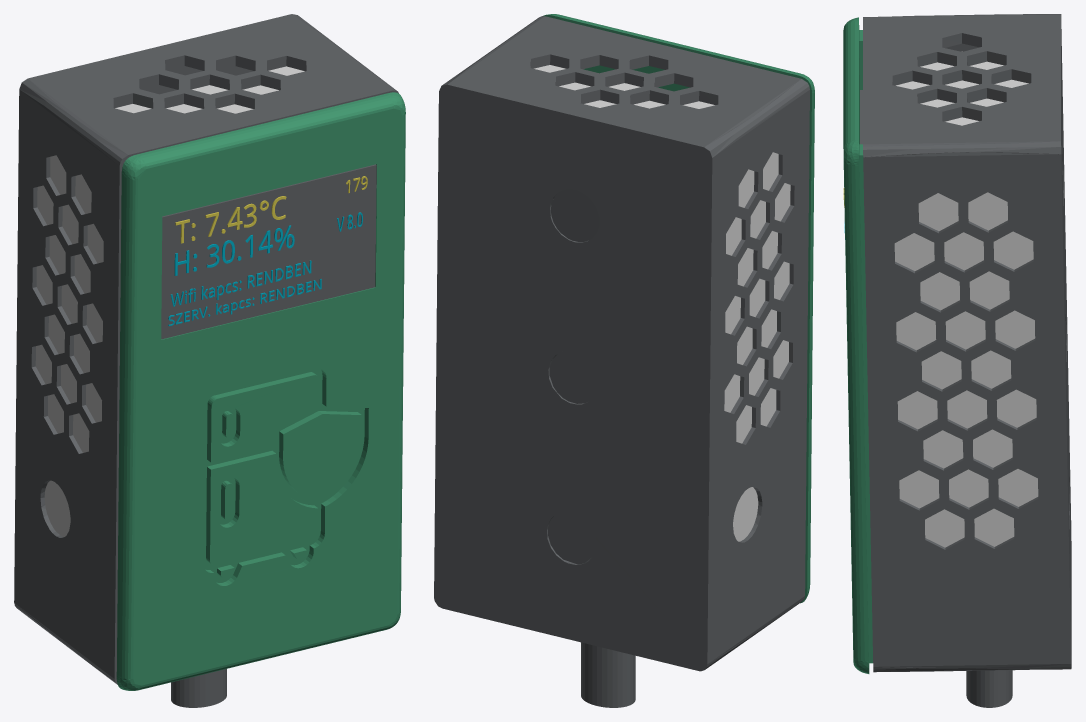
File: fekete_zold.glb
3 views of the same model, side by side, from view 1: azimuth 30°, elevation 25°; view 2: azimuth 150°, elevation 25°; view 3: azimuth 270°, elevation 25° (orthographic). The views are drawn at different scales.
Visible parts, largest first — view 1: Mesh_Mesh_head_geo.001_lambert2SG.001; view 2: Mesh_Mesh_head_geo.001_lambert2SG.001; view 3: Mesh_Mesh_head_geo.001_lambert2SG.001.
Boxes of the visible parts, x1=… form: Mesh_Mesh_head_geo.001_lambert2SG.001: x1=14, y1=14, x2=405, y2=707; Mesh_Mesh_head_geo.001_lambert2SG.001: x1=434, y1=14, x2=814, y2=707; Mesh_Mesh_head_geo.001_lambert2SG.001: x1=843, y1=14, x2=1071, y2=707.
Bounding box in the file's own units: 33 × 70.15 × 23.52.
